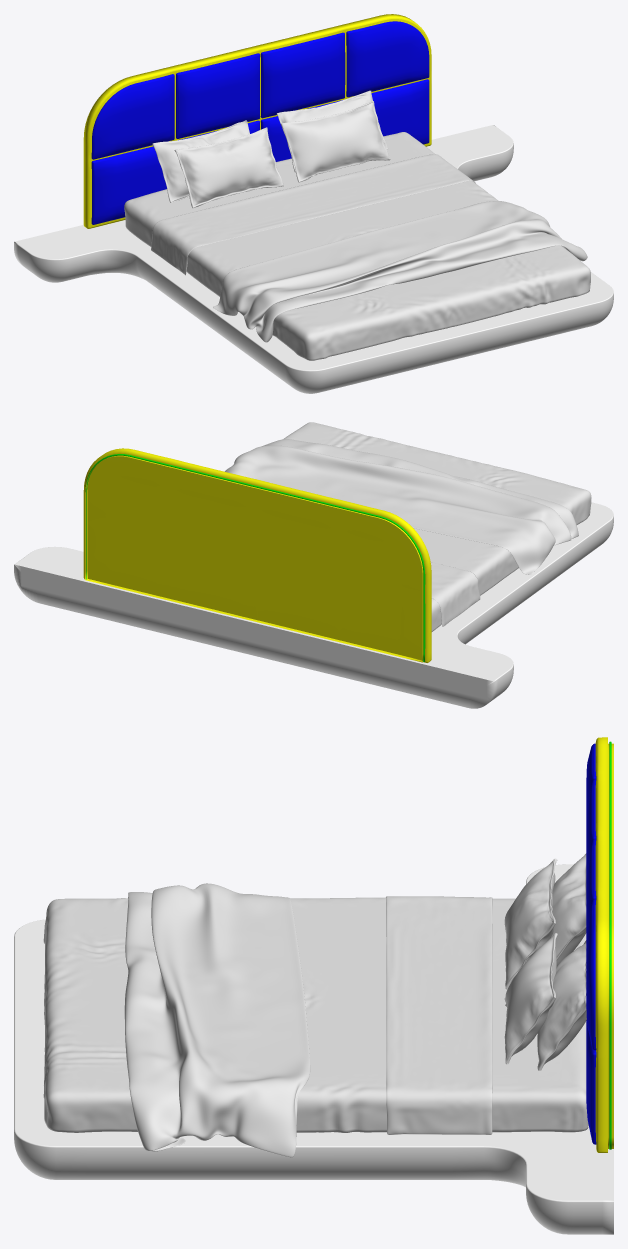
The model's file is Realistic Bed-001-fbx.fbx.
3 views of the same model, one above another, from view 1: azimuth 30°, elevation 25°; view 2: azimuth 150°, elevation 25°; view 3: azimuth 270°, elevation 25° (orthographic). The views are drawn at different scales.
Parts seen in each view (by area): view 1: blanket-001, headboard, main, blanket-002, pillow-003, pillow-004, pillow-001, pillow-002; view 2: headboard, main, blanket-002, blanket-001; view 3: blanket-001, blanket-002, main, headboard, pillow-003, pillow-004, pillow-002, pillow-001.
Boxes of the visible parts, x1=… form: blanket-001: x1=124, y1=132, x2=590, y2=360; headboard: x1=83, y1=14, x2=431, y2=228; main: x1=14, y1=125, x2=613, y2=393; blanket-002: x1=213, y1=201, x2=587, y2=342; pillow-003: x1=281, y1=101, x2=390, y2=182; pillow-004: x1=174, y1=127, x2=283, y2=208; pillow-001: x1=152, y1=120, x2=249, y2=202; pillow-002: x1=276, y1=90, x2=388, y2=172; headboard: x1=83, y1=448, x2=431, y2=662; main: x1=14, y1=502, x2=613, y2=708; blanket-002: x1=225, y1=439, x2=578, y2=574; blanket-001: x1=283, y1=422, x2=591, y2=631; blanket-001: x1=43, y1=896, x2=588, y2=1134; blanket-002: x1=124, y1=883, x2=310, y2=1157; main: x1=14, y1=864, x2=613, y2=1234; headboard: x1=586, y1=737, x2=613, y2=1152; pillow-003: x1=504, y1=933, x2=557, y2=1064; pillow-004: x1=504, y1=858, x2=557, y2=989; pillow-002: x1=537, y1=940, x2=586, y2=1070; pillow-001: x1=551, y1=853, x2=586, y2=966.
Size of the model in its own units: 266 by 90.97 by 200.
